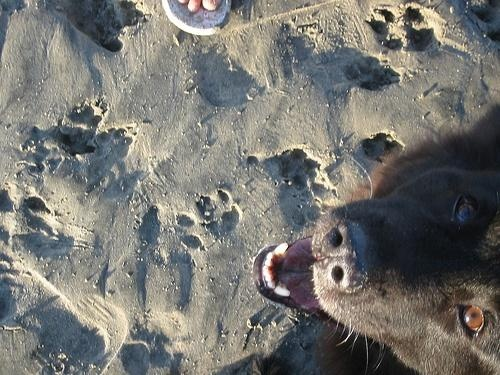dog: (245, 135, 500, 375)
